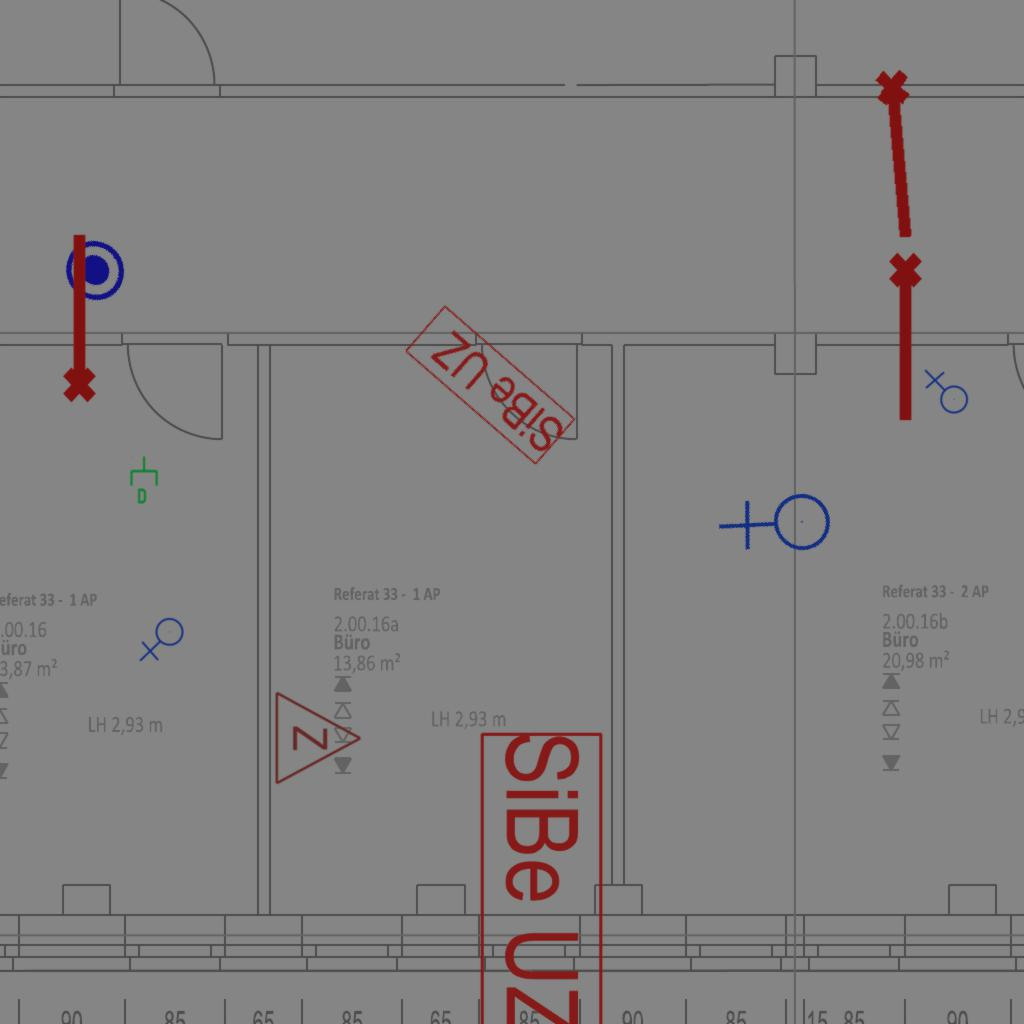ASR_Ansaugoeffnung: (870, 65, 932, 245), (885, 250, 931, 426), (54, 229, 100, 405)
Datenanschluss_einfach: (128, 455, 162, 505)
Elektroanschluss_allgemein_230V_Geraeteanschlussdose_230V: (713, 459, 850, 595), (922, 369, 969, 418), (139, 617, 188, 664)
Taster: (51, 223, 143, 315)
Zentrale_Sicherheitsbeleuchtung: (476, 729, 606, 1024), (401, 301, 579, 468)
Zimmersignalleuchte: (268, 688, 368, 786)
